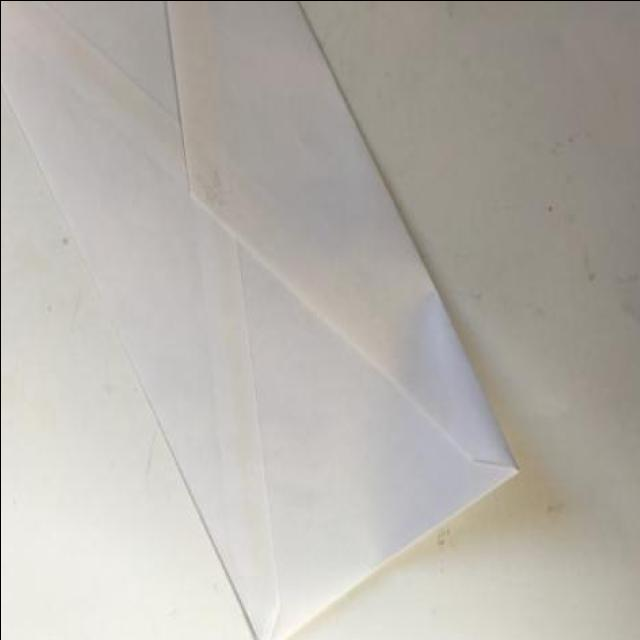kertas: (0, 0, 517, 640)
